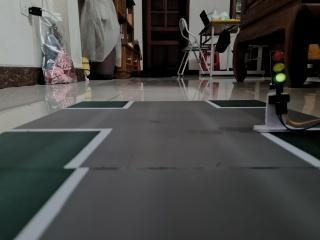green: (260, 45, 293, 95)
